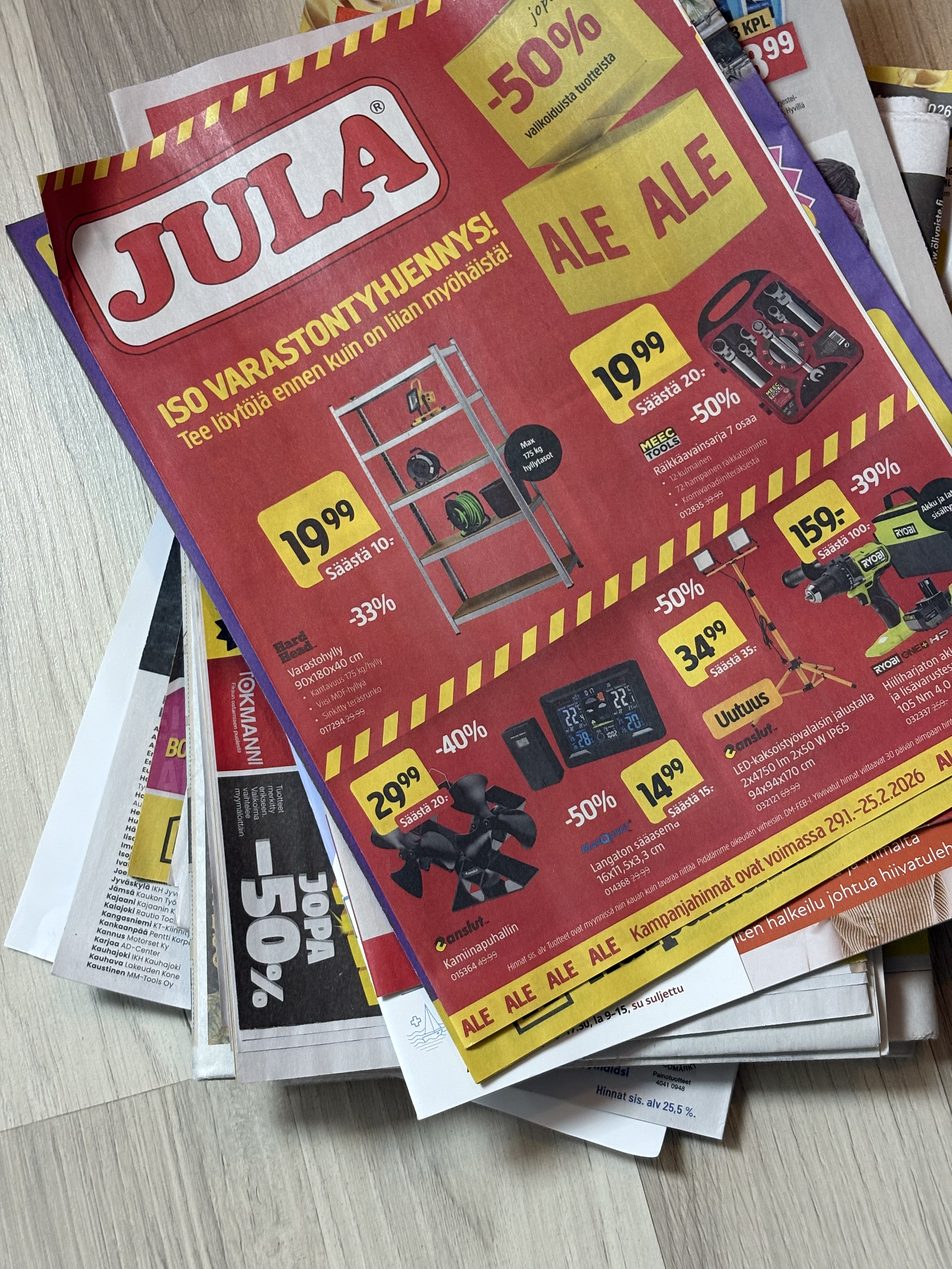paper: (6, 11, 948, 1160)
